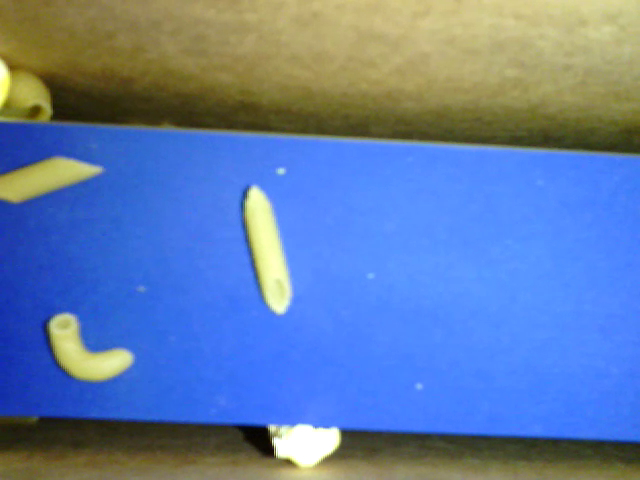elbow: (45, 312, 137, 384)
penne: (243, 185, 293, 314), (1, 153, 102, 203)
shell: (2, 67, 55, 122)
